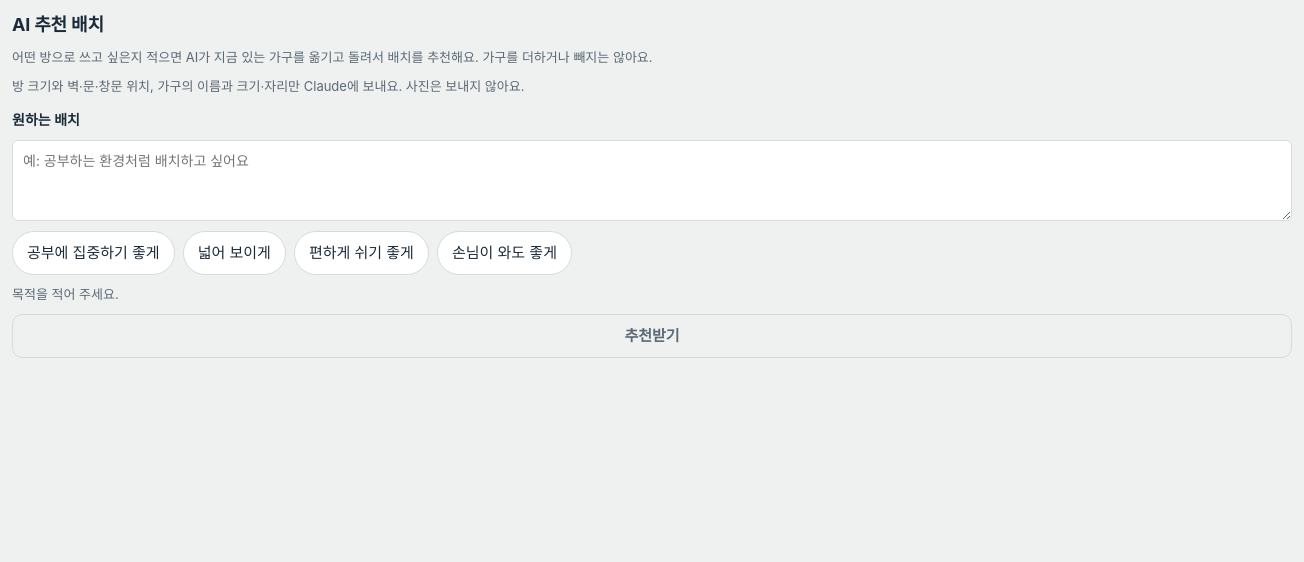
Scenario: SuggestPanel › SG-1/2: 추천을 적용하고 이유를 보이며 원래대로 돌린다
Type "공부하기 좋게" into the text box with test id "suggest-goal".
click(652, 180); type("공부하기 좋게")  # box x1=12 y1=140 x2=1292 y2=221
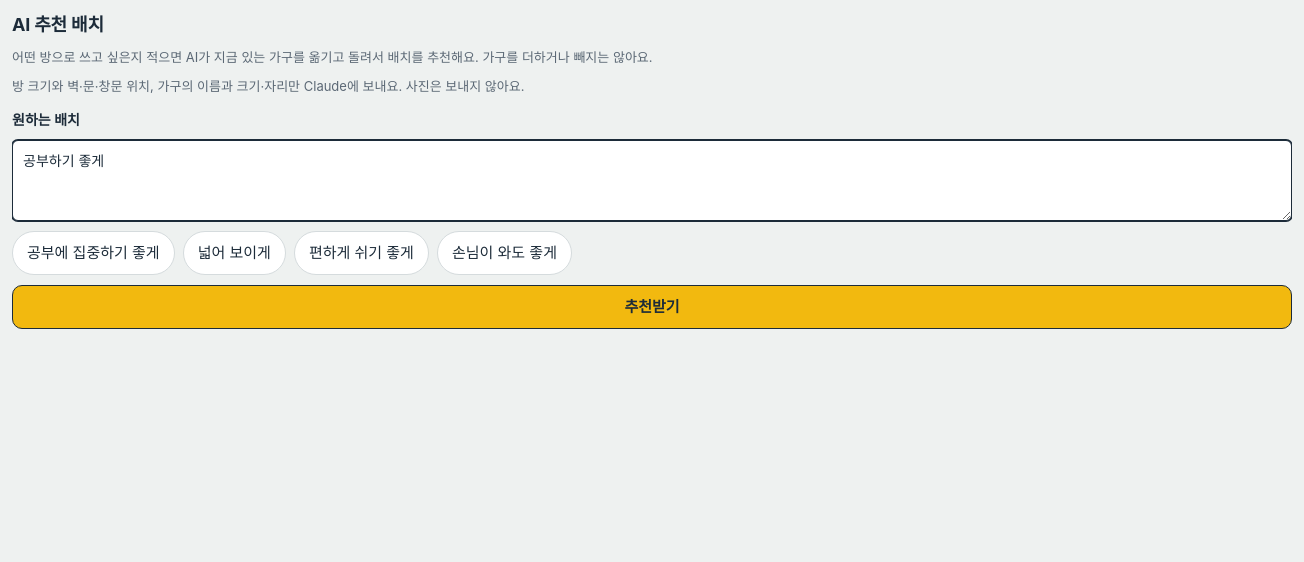
Expected: the button with test id "suggest-run" is enabled
Click the button with test id "suggest-run".
click(652, 307)  # box x1=12 y1=285 x2=1292 y2=329
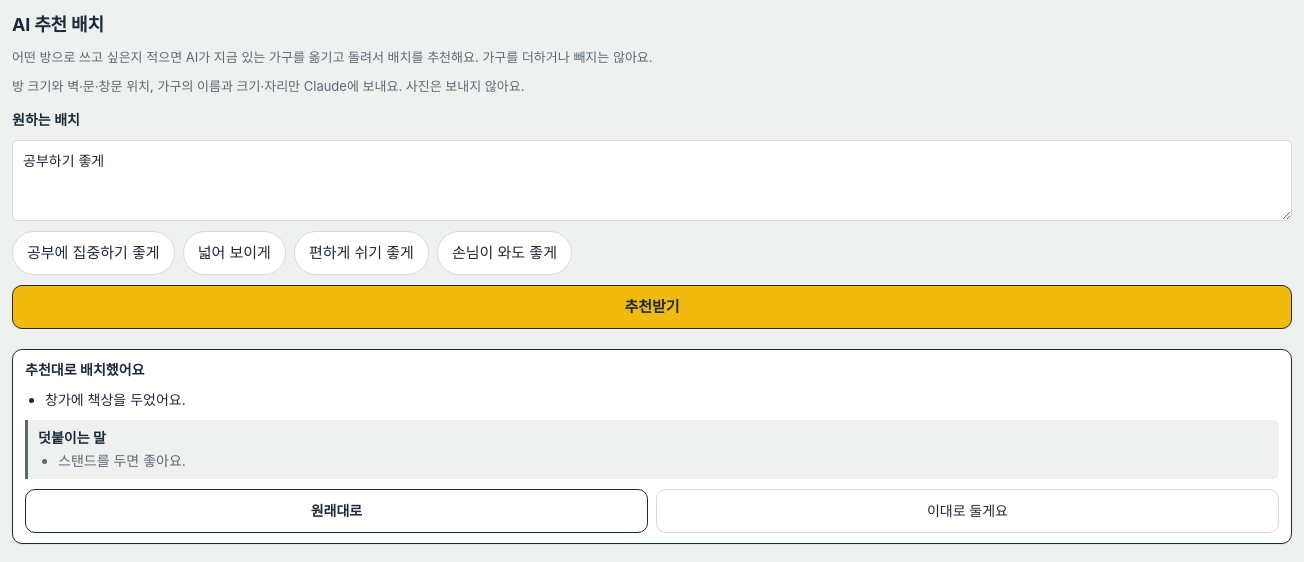
Expected: the element with test id "suggest-result" is shown, x1=12 y1=349 x2=1292 y2=544
Expected: the list with test id "suggest-reasons" shows "창가", x1=45 y1=391 x2=186 y2=408
Expected: the element with test id "suggest-tips" shows "스탠드", x1=25 y1=420 x2=1279 y2=479
Click the button with test id "suggest-revert".
click(336, 511)  # box x1=25 y1=489 x2=648 y2=533
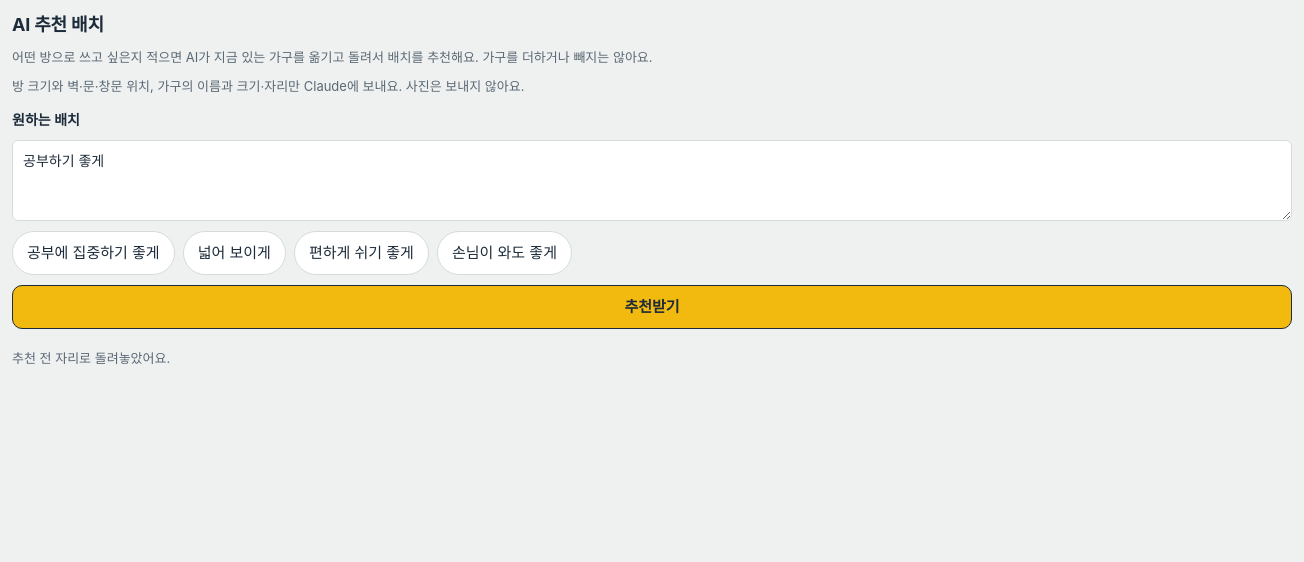
Expected: the element with test id "suggest-result" is gone
